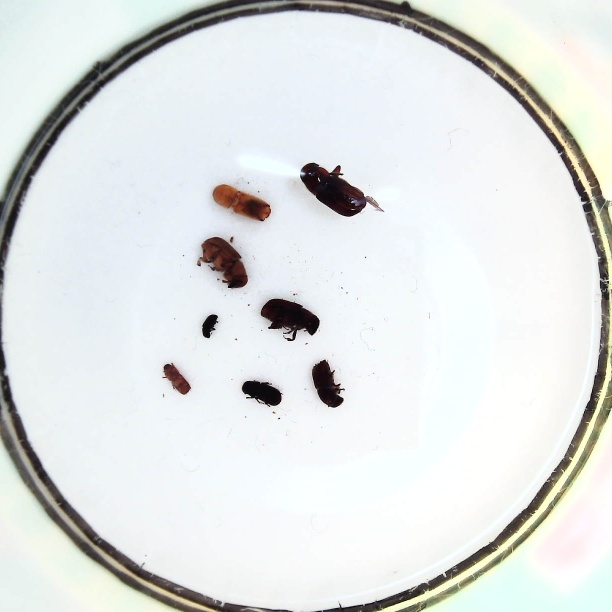acuminatus: (162, 360, 190, 395)
armandi: (240, 378, 283, 407)
boerner: (211, 182, 273, 223)
coleoptera: (200, 312, 219, 339)
leconte: (300, 161, 371, 217), (259, 297, 323, 342), (198, 236, 250, 291)
linnaeus: (312, 359, 346, 409)
